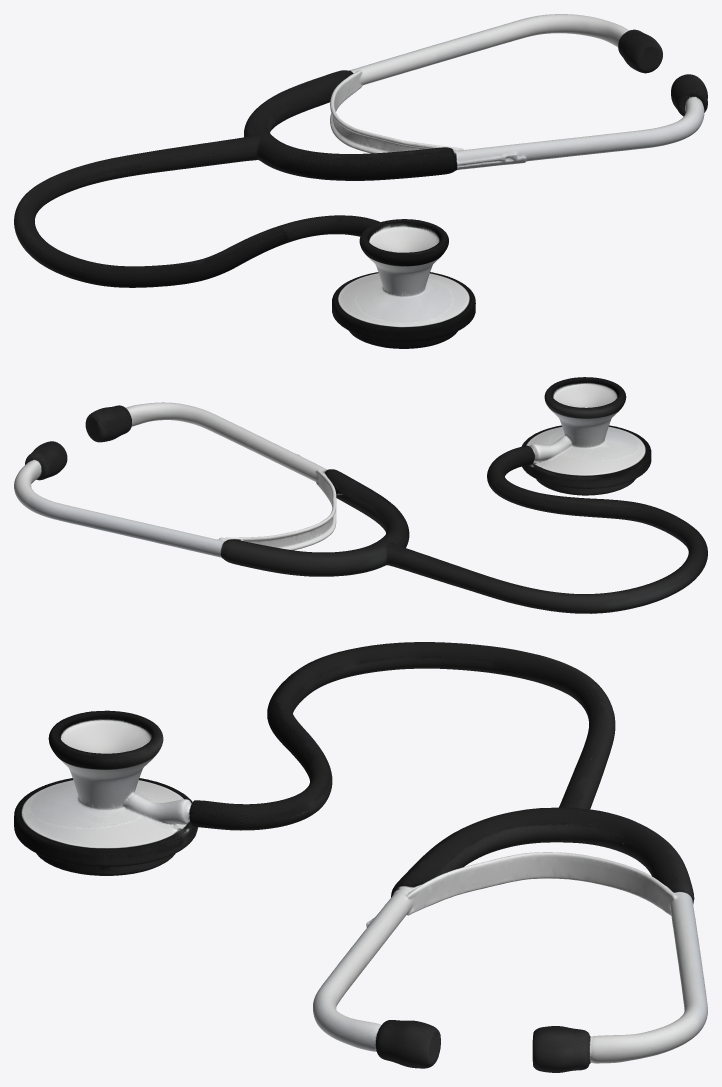
Rendered from accessories_set_6_item_12.glb.
3 renders of one model, top to bottom at view 1: azimuth 30°, elevation 25°; view 2: azimuth 150°, elevation 25°; view 3: azimuth 270°, elevation 25°, orthographic. The views are drawn at different scales.
Bounding box in the file's own units: 1.9 × 0.2435 × 1.33.
1 material, 1 textured.
